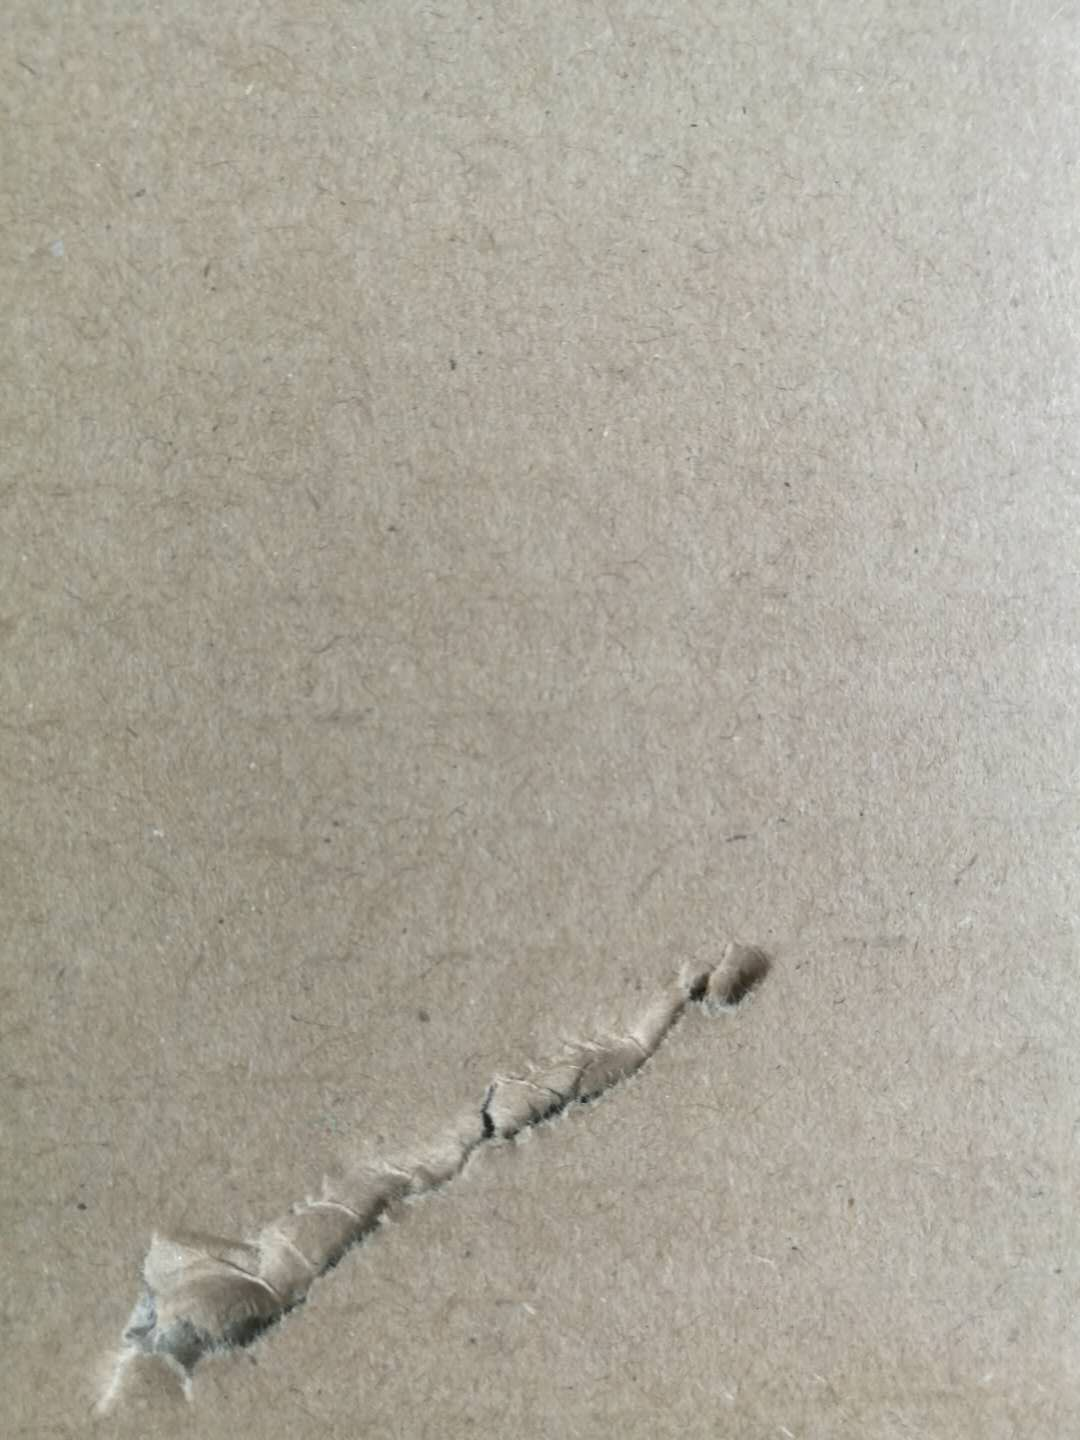defect: (64, 907, 822, 1428)
